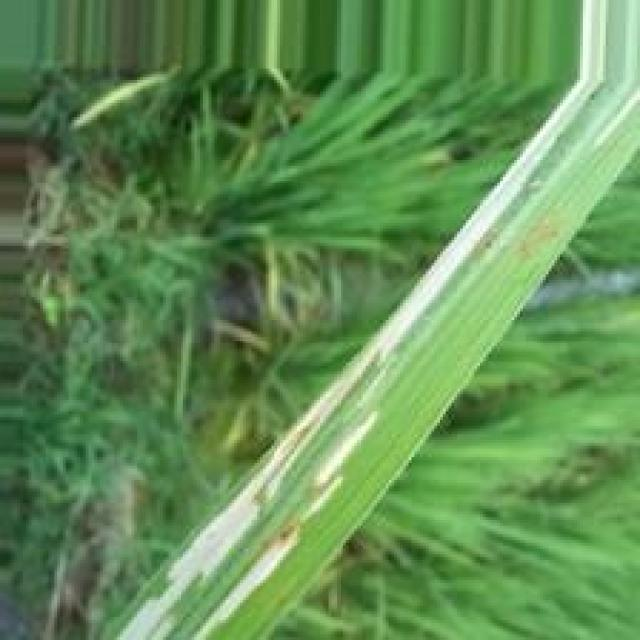Rice_Hispa: (116, 1, 607, 640), (206, 413, 382, 640)
